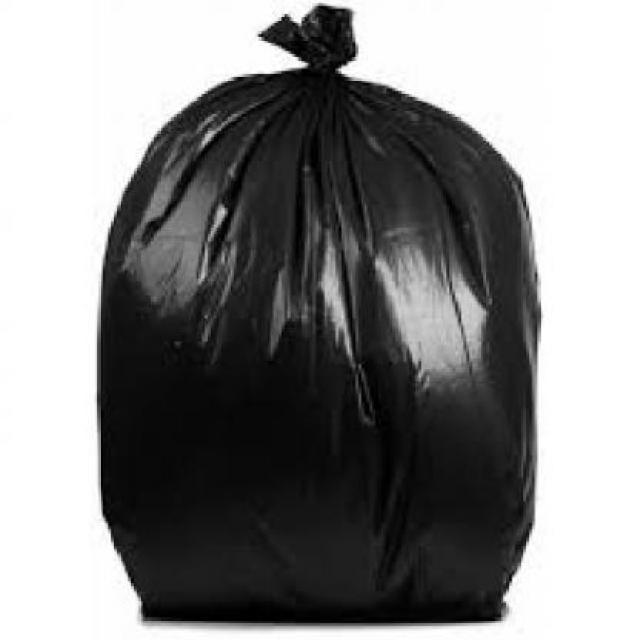garbage: (31, 3, 637, 638)
